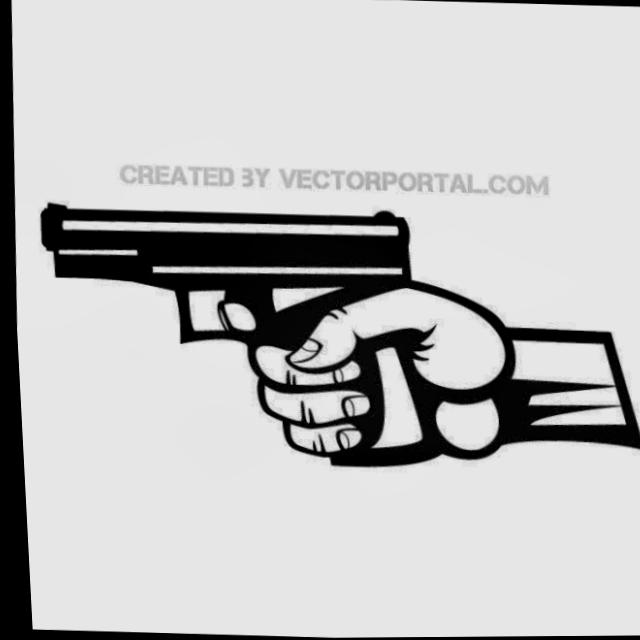pistol: (26, 191, 440, 472)
